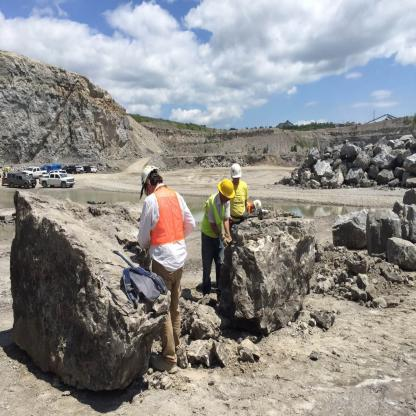person: (129, 162, 192, 369), (203, 170, 235, 291), (232, 158, 251, 230)
